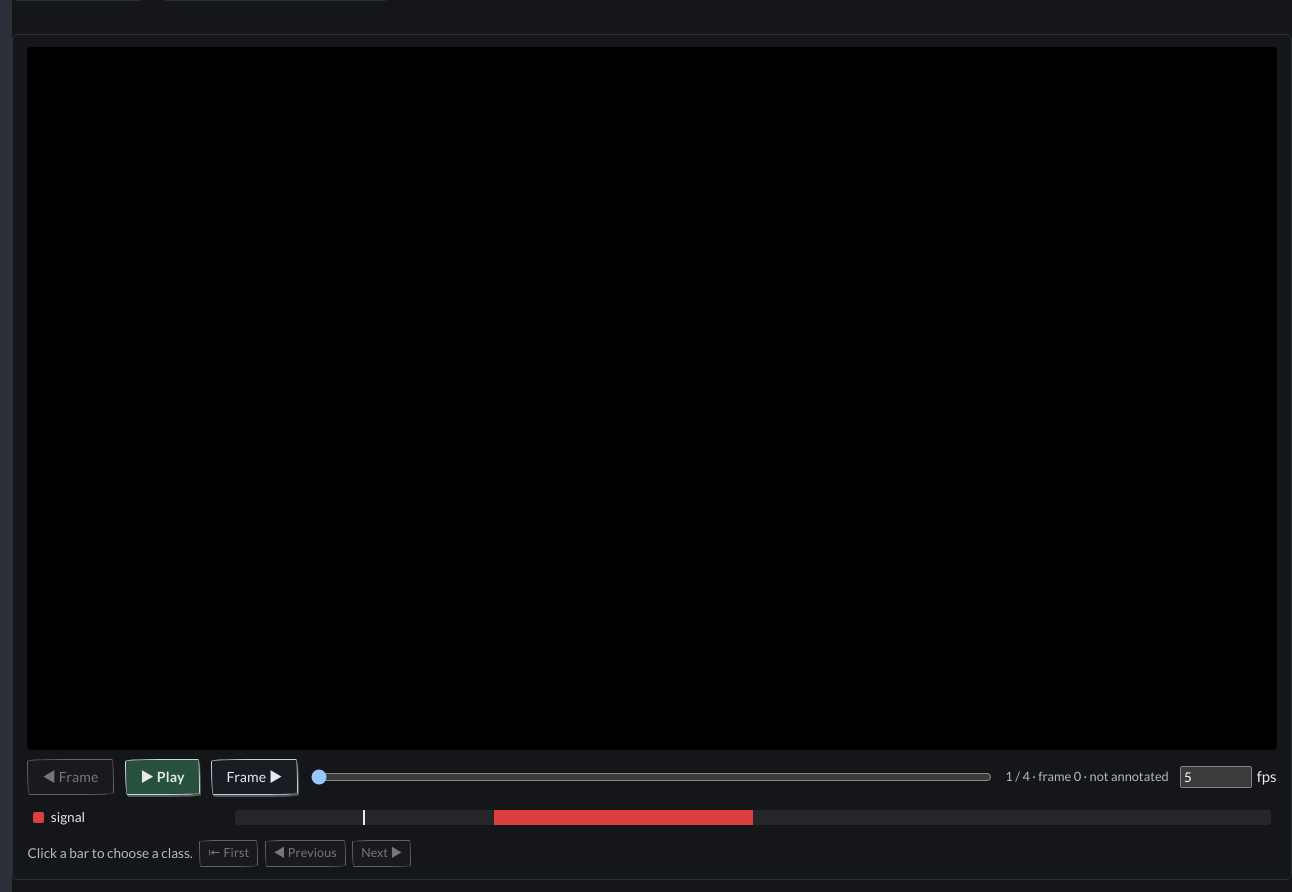
Test case: InspectTab (doc 74) › steps through frames and says which ones hold annotations
This screenshot has width=1292, height=892.
(page scrolled)
expect the text "1 / 4 · frame 0 · not annotated" is shown: met, box [1005,767,1169,786]
Click the button "Frame ▶": (254, 777) [211,759,298,794]
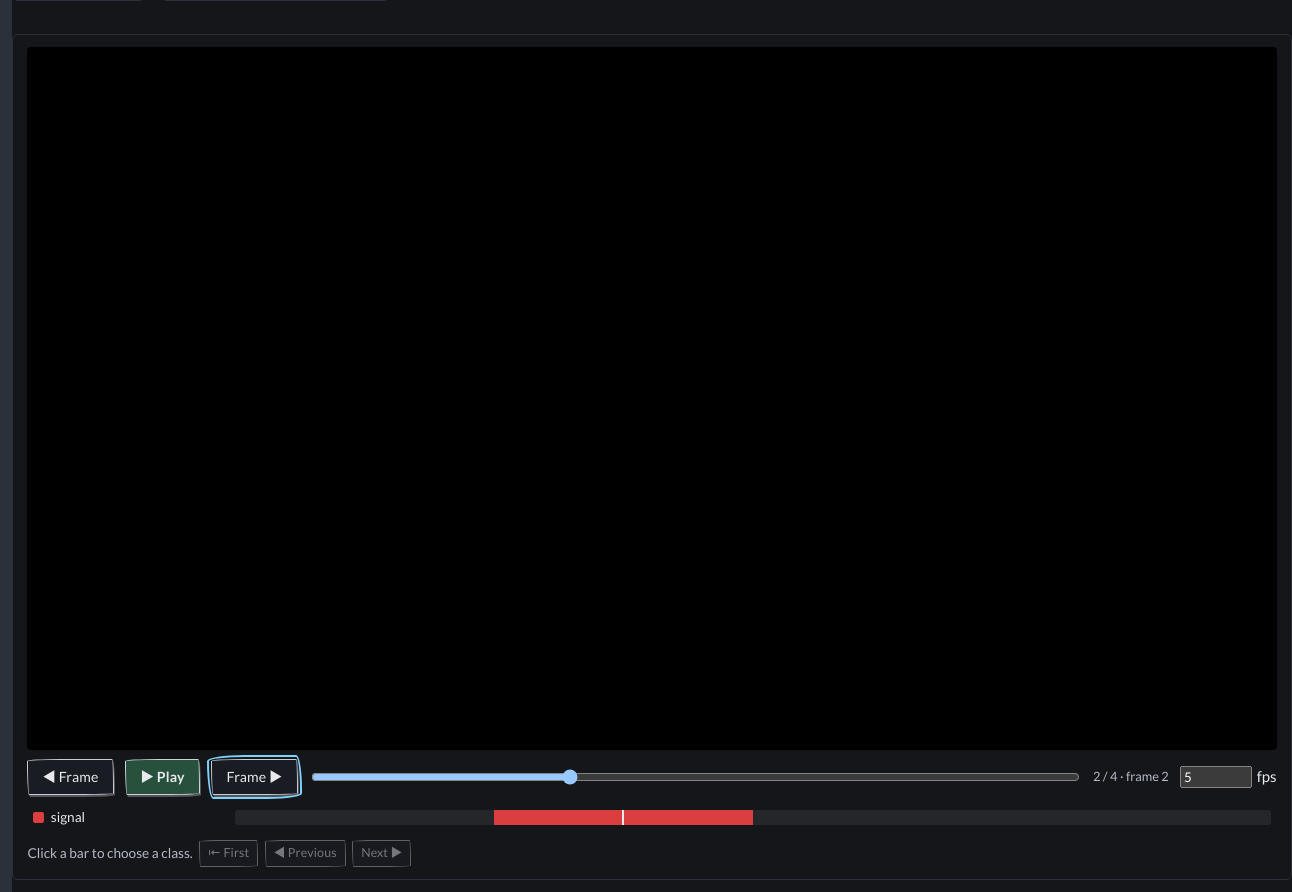
expect the text "2 / 4 · frame 2" is shown: met, box [1093,767,1169,786]
